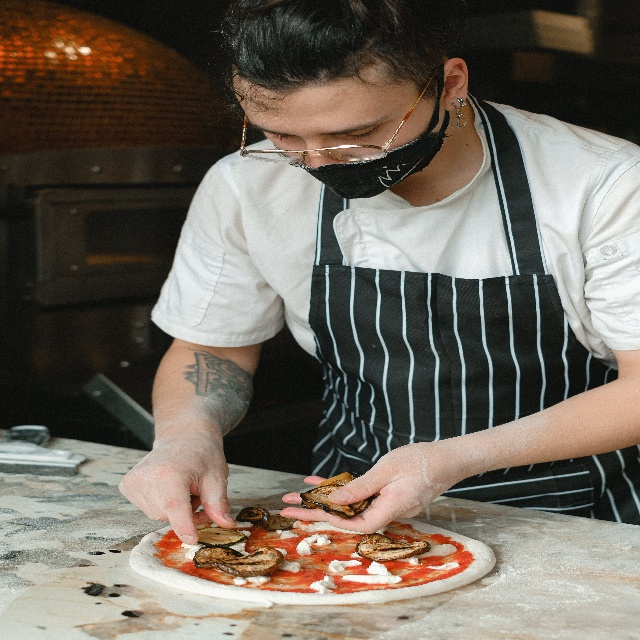Gafas: (239, 69, 443, 162)
Mascara: (271, 63, 450, 199)
Sin_guantes: (278, 432, 447, 538), (118, 427, 238, 546)
